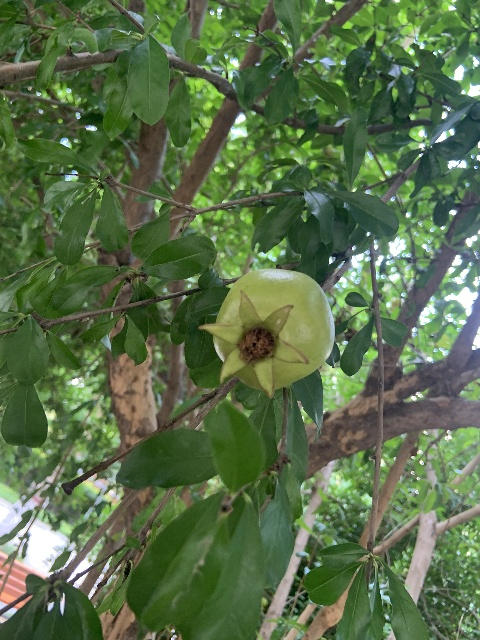mid-growth: (199, 269, 333, 397)
